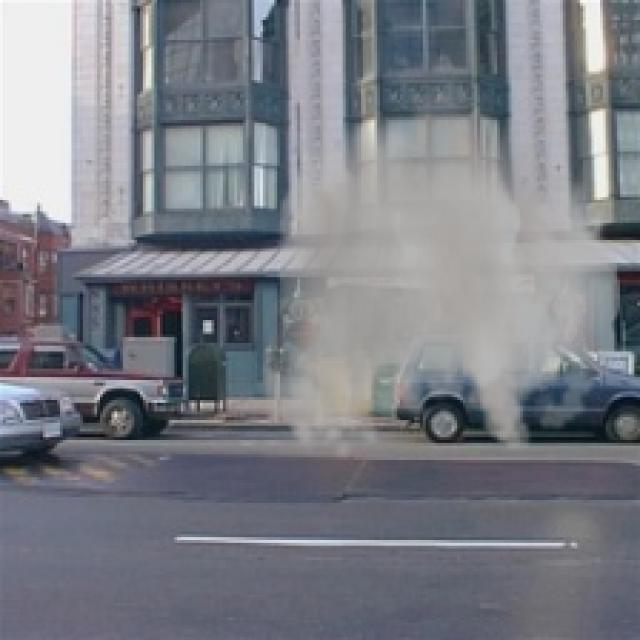Smoke: (260, 68, 620, 463)
